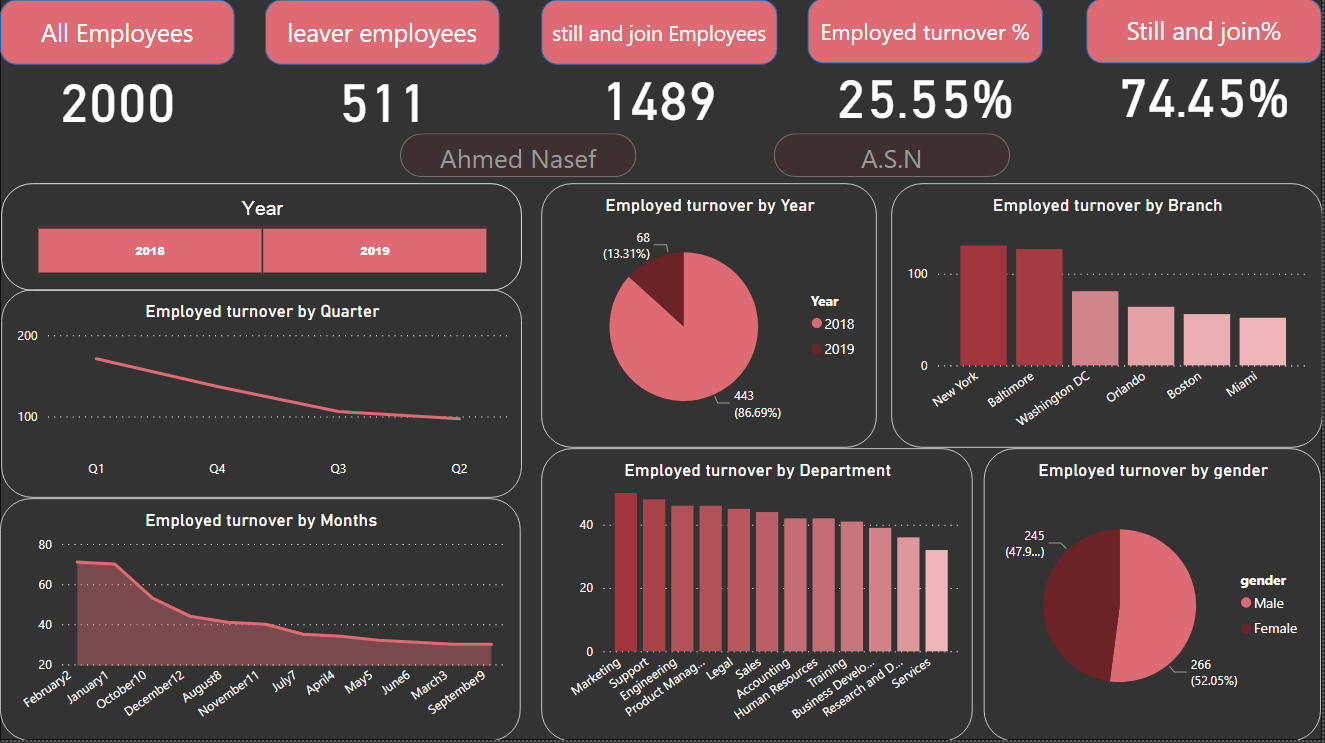

The page's visual inventory and layout, read from the dashboard file:
{"tool":"powerbi","page":{"name":"Page 1","canvas":[1280,720],"ordinal":0},"visuals":[{"type":"slicer","title":"Year","fields":{"Values":["Date Table.Year"]},"box":[1.2,180,503.8,103.8],"z":0},{"type":"card","title":"All Employees","fields":{"Values":["staff.Name"]},"box":[0,50.8,228,90.6],"z":1000},{"type":"shape","box":[0,2.8,227.4,63.2],"z":2000},{"type":"shape","box":[256.8,2.8,227.4,63.2],"z":3000},{"type":"card","title":"All Employees","fields":{"Values":["leavers.Name"]},"box":[256.8,50.8,228,90.6],"z":4000},{"type":"card","title":"All Employees","fields":{"Values":["staff.still"]},"box":[524.2,49.8,228,90.6],"z":5000},{"type":"shape","box":[523.5,2.8,228.8,63.2],"z":6000},{"type":"card","title":"All Employees","fields":{"Values":["staff.turnover %"]},"box":[781.5,46.7,228,90.6],"z":7000},{"type":"shape","box":[781.5,1.3,228,63.2],"z":8000},{"type":"shape","box":[1051.7,0.8,228,63.2],"z":9000},{"type":"card","title":"All Employees","fields":{"Values":["staff.still %"]},"box":[1051.7,46.1,228,90.6],"z":10000},{"type":"lineChart","fields":{"Category":["Date Table.Quarter"],"Y":["leavers.Name"]},"box":[1.2,283.8,503.8,201.2],"z":11000},{"type":"areaChart","fields":{"Y":["leavers.leavers_count"],"Category":["Date Table.Months"]},"box":[0,485,503.8,235],"z":12000},{"type":"pieChart","fields":{"Category":["Date Table.Year"],"Y":["leavers.leavers_count"]},"box":[523.8,180,325,256.2],"z":13000},{"type":"clusteredColumnChart","fields":{"Category":["leavers.Department"],"Y":["leavers.Name"]},"box":[523.8,436.2,417.5,283.8],"z":14000},{"type":"pieChart","fields":{"Y":["leavers.leavers_count"],"Category":["leavers.gender"]},"box":[952.5,436.2,326.2,283.8],"z":15000},{"type":"clusteredColumnChart","fields":{"Y":["leavers.Name"],"Category":["leavers.Branch"]},"box":[862.5,180,417.5,256.2],"z":16000},{"type":"shape","box":[387.5,132.5,228.8,42.5],"z":17000},{"type":"shape","box":[748.8,132.5,228.8,42.5],"z":18000}]}

Visuals, with their boxes in screenshot pixels (x1, y1, x2, y2), scaled from the page's 1280x720 canvas onto the 1325x743 screenshot:
"Year" slicer: 1, 186, 523, 293
"All Employees" card: 0, 52, 236, 146
shape: 0, 3, 235, 68
shape: 266, 3, 501, 68
"All Employees" card: 266, 52, 502, 146
"All Employees" card: 543, 51, 779, 145
shape: 542, 3, 779, 68
"All Employees" card: 809, 48, 1045, 142
shape: 809, 1, 1045, 67
shape: 1089, 1, 1324, 66
"All Employees" card: 1089, 48, 1324, 141
lineChart - Date Table.Quarter x leavers.Name: 1, 293, 523, 500
areaChart - leavers.leavers_count x Date Table.Months: 0, 500, 522, 742
pieChart - Date Table.Year x leavers.leavers_count: 542, 186, 879, 450
clusteredColumnChart - leavers.Department x leavers.Name: 542, 450, 974, 742
pieChart - leavers.leavers_count x leavers.gender: 986, 450, 1324, 742
clusteredColumnChart - leavers.Name x leavers.Branch: 893, 186, 1324, 450
shape: 401, 137, 638, 181
shape: 775, 137, 1012, 181
